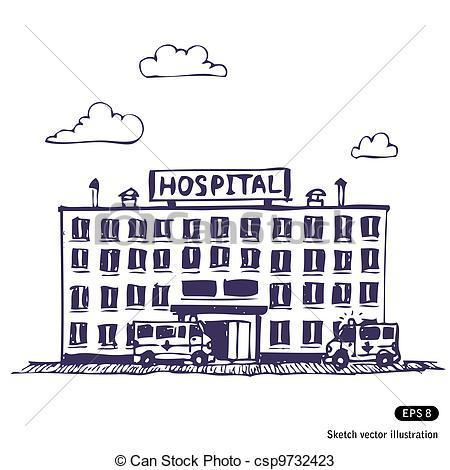car: (319, 312, 403, 365), (128, 315, 214, 364)
